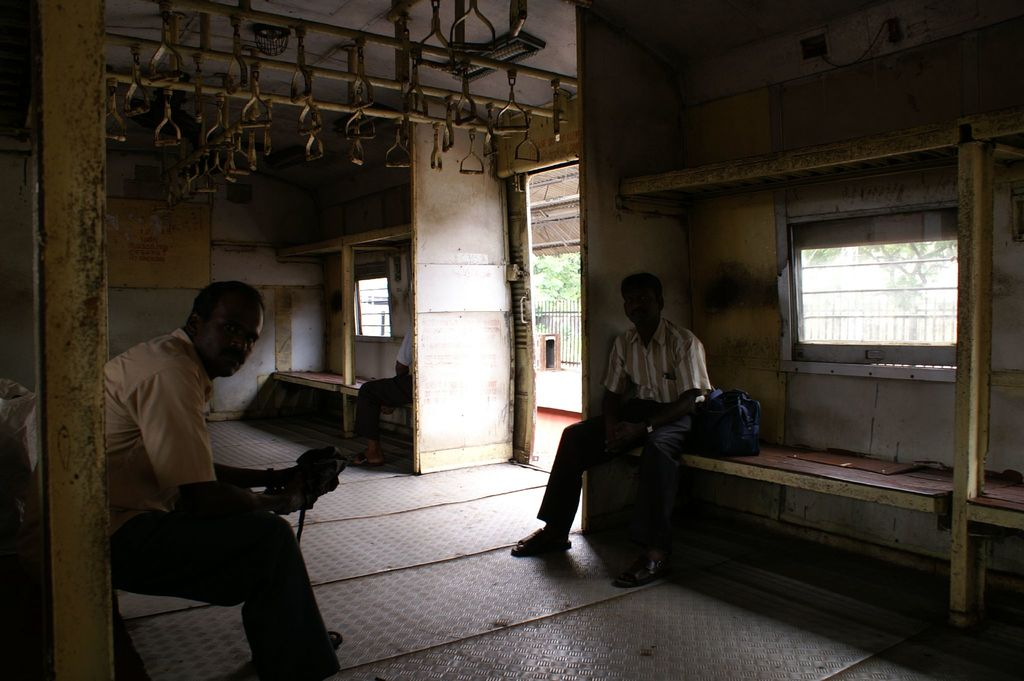Footwear: (511, 529, 578, 557), (613, 554, 667, 587)
